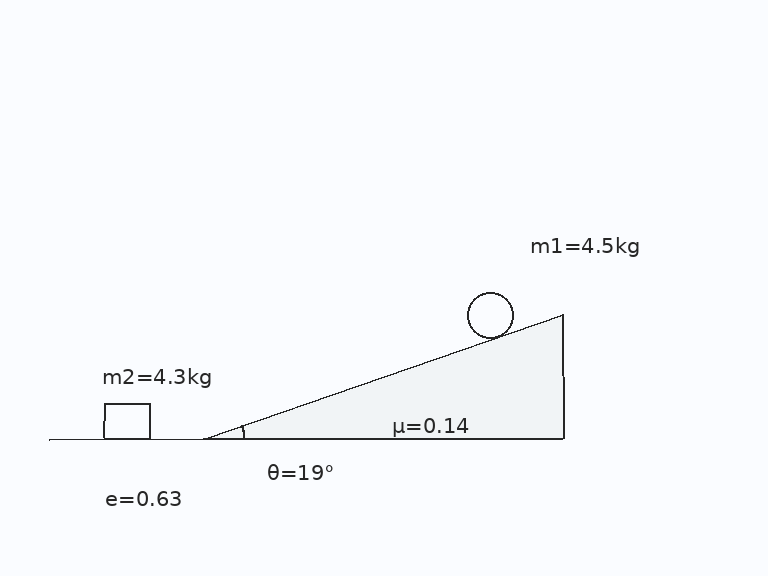ball: (465, 290, 515, 340)
block: (102, 402, 152, 440)
ramp: (202, 313, 564, 440)
